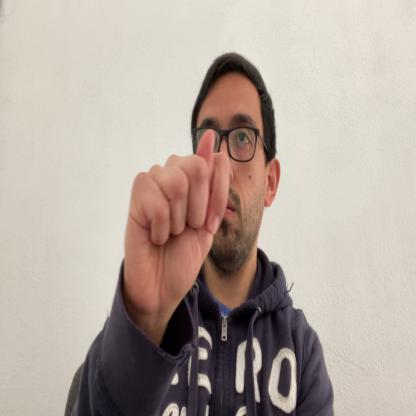T: (124, 128, 231, 303)
